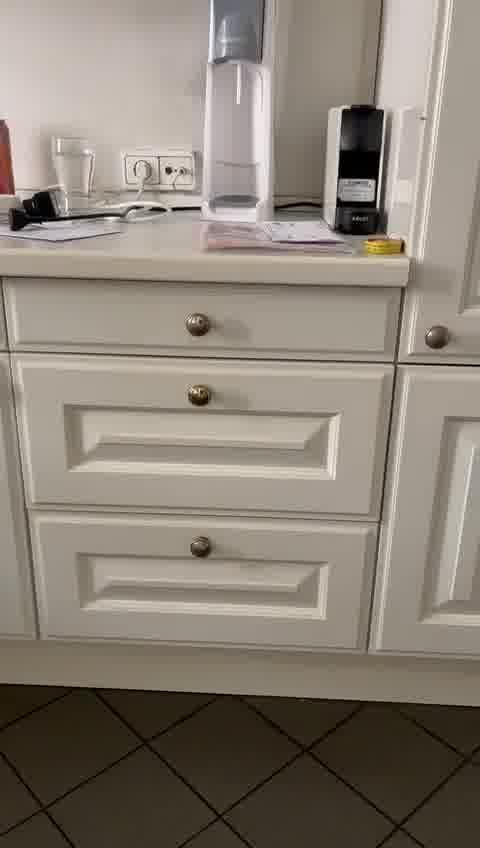cabinet_door: (10, 366, 393, 518), (27, 520, 379, 647), (13, 274, 401, 360)
handle: (420, 319, 458, 359), (184, 529, 224, 566), (186, 313, 213, 343), (187, 383, 212, 410)
